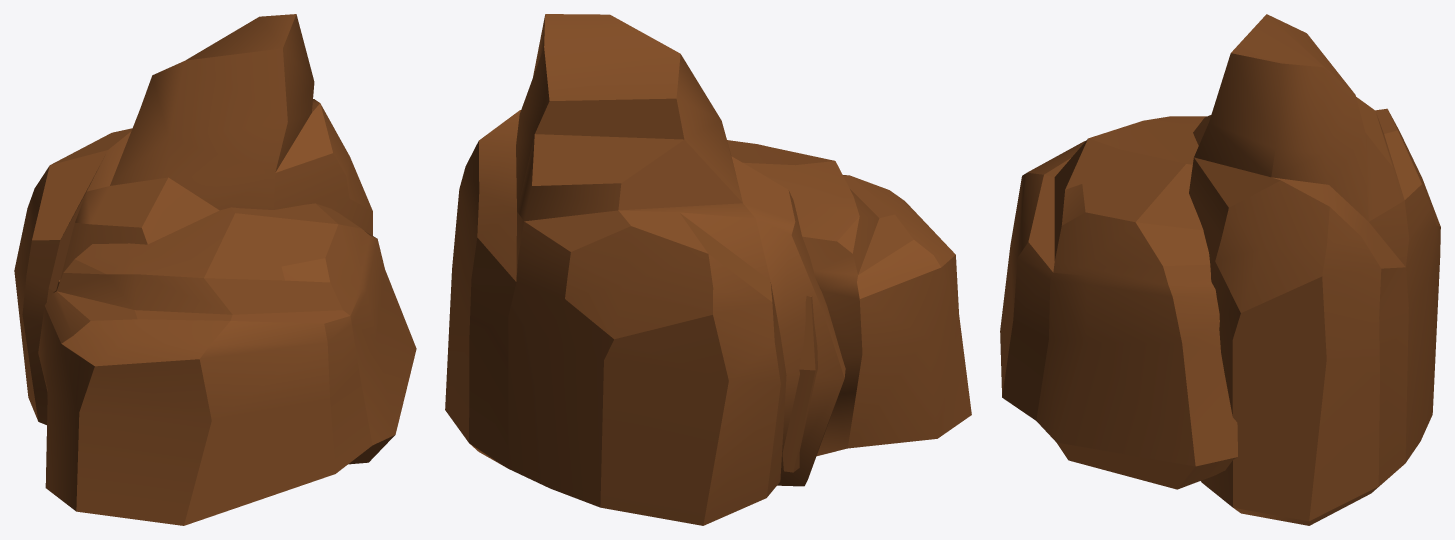
The model's file is rock_b5.glb.
The picture shows the model from 3 angles, left to right: view 1: azimuth 30°, elevation 25°; view 2: azimuth 150°, elevation 25°; view 3: azimuth 270°, elevation 25°; orthographic projection. The views are drawn at different scales.
Parts seen in each view (by area): view 1: Rock_Large_2; view 2: Rock_Large_2; view 3: Rock_Large_2.
Part boxes in pixels (bbox=[...]): Rock_Large_2: bbox=[14, 14, 416, 525]; Rock_Large_2: bbox=[445, 14, 971, 525]; Rock_Large_2: bbox=[1000, 14, 1440, 525].
Size of the model in its own units: 8.54 by 8.21 by 7.62.
Materials: 1 (1 with a texture image).
